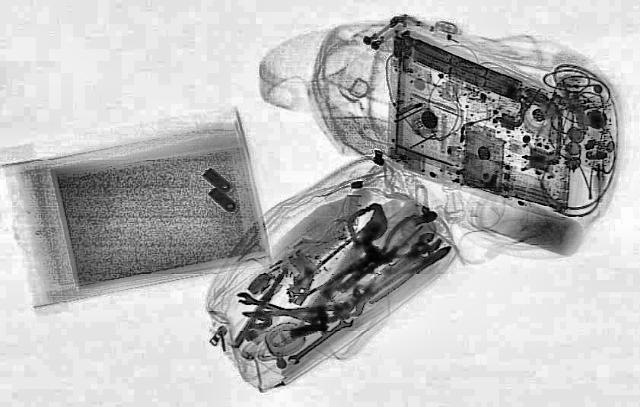Pliers: (338, 214, 452, 280)
Wrench: (280, 312, 358, 366), (230, 290, 324, 326)
